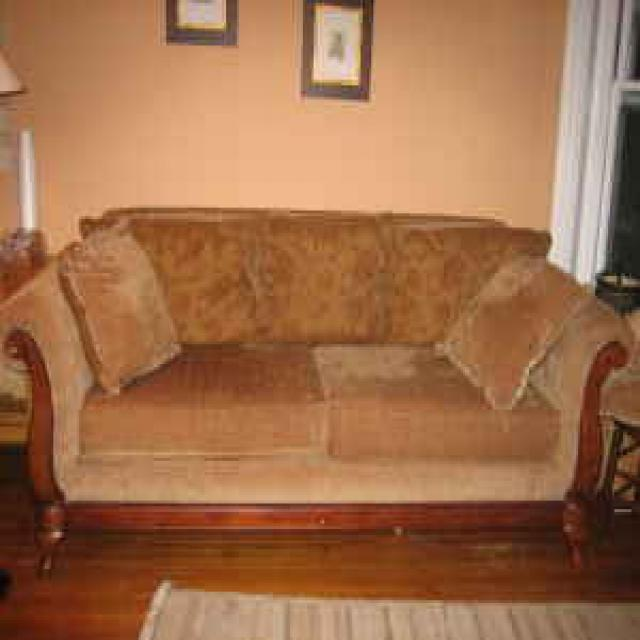carpet floor: (134, 577, 636, 637)
cushion occluded: (435, 250, 589, 412), (53, 208, 181, 390)
floor -X: (2, 375, 634, 637)
lamp occluded: (2, 51, 23, 94)
picture crop: (297, 0, 369, 94)
picture frame: (164, 0, 235, 43)
sofa bed: (2, 205, 629, 572)
table lamp: (602, 375, 636, 543)
wall clock: (2, 0, 636, 375)
